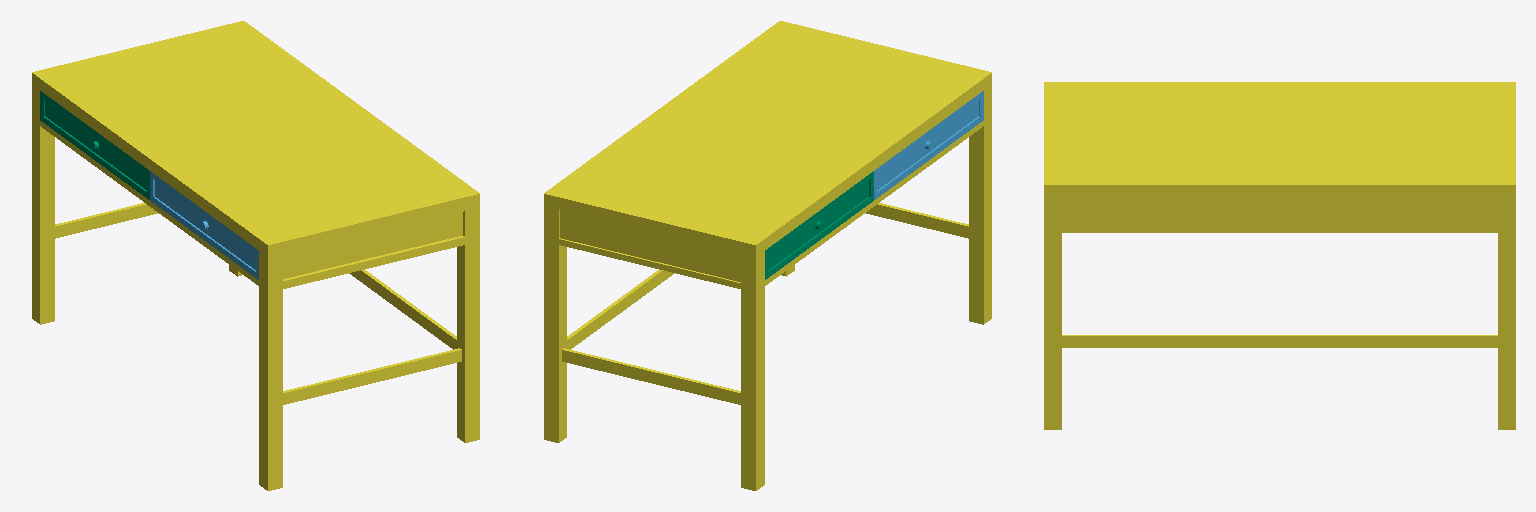
robot.urdf — partnet_ebc897217df591d73542091189dc62b5:
<?xml version="1.0" ?>
<robot name="partnet_ebc897217df591d73542091189dc62b5">
	<link name="base"/>
	<link name="link_0">
		<visual name="drawer_front-26">
			<origin xyz="0 0 0"/>
			<geometry>
				<mesh filename="textured_objs/new-21.obj"/>
			</geometry>
		</visual>
		<visual name="drawer_side-27">
			<origin xyz="0 0 0"/>
			<geometry>
				<mesh filename="textured_objs/new-22.obj"/>
			</geometry>
		</visual>
		<visual name="drawer_side-28">
			<origin xyz="0 0 0"/>
			<geometry>
				<mesh filename="textured_objs/new-23.obj"/>
			</geometry>
		</visual>
		<visual name="drawer_back-29">
			<origin xyz="0 0 0"/>
			<geometry>
				<mesh filename="textured_objs/new-24.obj"/>
			</geometry>
		</visual>
		<visual name="drawer_bottom-30">
			<origin xyz="0 0 0"/>
			<geometry>
				<mesh filename="textured_objs/new-25.obj"/>
			</geometry>
		</visual>
		<collision>
			<origin xyz="0 0 0"/>
			<geometry>
				<mesh filename="textured_objs/new-21.obj"/>
			</geometry>
		</collision>
		<collision>
			<origin xyz="0 0 0"/>
			<geometry>
				<mesh filename="textured_objs/new-22.obj"/>
			</geometry>
		</collision>
		<collision>
			<origin xyz="0 0 0"/>
			<geometry>
				<mesh filename="textured_objs/new-23.obj"/>
			</geometry>
		</collision>
		<collision>
			<origin xyz="0 0 0"/>
			<geometry>
				<mesh filename="textured_objs/new-24.obj"/>
			</geometry>
		</collision>
		<collision>
			<origin xyz="0 0 0"/>
			<geometry>
				<mesh filename="textured_objs/new-25.obj"/>
			</geometry>
		</collision>
	</link>
	<joint name="joint_0" type="prismatic">
		<origin xyz="0 0 0"/>
		<axis xyz="0 0 1"/>
		<child link="link_0"/>
		<parent link="link_2"/>
		<limit lower="0" upper="0.5760000000000001"/>
	</joint>
	<link name="link_1">
		<visual name="drawer_front-20">
			<origin xyz="0 0 0"/>
			<geometry>
				<mesh filename="textured_objs/new-16.obj"/>
			</geometry>
		</visual>
		<visual name="drawer_side-21">
			<origin xyz="0 0 0"/>
			<geometry>
				<mesh filename="textured_objs/new-18.obj"/>
			</geometry>
		</visual>
		<visual name="drawer_side-22">
			<origin xyz="0 0 0"/>
			<geometry>
				<mesh filename="textured_objs/new-17.obj"/>
			</geometry>
		</visual>
		<visual name="drawer_back-23">
			<origin xyz="0 0 0"/>
			<geometry>
				<mesh filename="textured_objs/new-19.obj"/>
			</geometry>
		</visual>
		<visual name="drawer_bottom-24">
			<origin xyz="0 0 0"/>
			<geometry>
				<mesh filename="textured_objs/new-20.obj"/>
			</geometry>
		</visual>
		<collision>
			<origin xyz="0 0 0"/>
			<geometry>
				<mesh filename="textured_objs/new-16.obj"/>
			</geometry>
		</collision>
		<collision>
			<origin xyz="0 0 0"/>
			<geometry>
				<mesh filename="textured_objs/new-18.obj"/>
			</geometry>
		</collision>
		<collision>
			<origin xyz="0 0 0"/>
			<geometry>
				<mesh filename="textured_objs/new-17.obj"/>
			</geometry>
		</collision>
		<collision>
			<origin xyz="0 0 0"/>
			<geometry>
				<mesh filename="textured_objs/new-19.obj"/>
			</geometry>
		</collision>
		<collision>
			<origin xyz="0 0 0"/>
			<geometry>
				<mesh filename="textured_objs/new-20.obj"/>
			</geometry>
		</collision>
	</link>
	<joint name="joint_1" type="prismatic">
		<origin xyz="0 0 0"/>
		<axis xyz="0 0 1"/>
		<child link="link_1"/>
		<parent link="link_2"/>
		<limit lower="0" upper="0.5760000000000001"/>
	</joint>
	<link name="link_2">
		<visual name="board-19">
			<origin xyz="0 0 0"/>
			<geometry>
				<mesh filename="textured_objs/new-10.obj"/>
			</geometry>
		</visual>
		<visual name="back_panel-6">
			<origin xyz="0 0 0"/>
			<geometry>
				<mesh filename="textured_objs/new-11.obj"/>
			</geometry>
		</visual>
		<visual name="back_panel-6">
			<origin xyz="0 0 0"/>
			<geometry>
				<mesh filename="textured_objs/new-13.obj"/>
			</geometry>
		</visual>
		<visual name="vertical_side_panel-7">
			<origin xyz="0 0 0"/>
			<geometry>
				<mesh filename="textured_objs/new-8.obj"/>
			</geometry>
		</visual>
		<visual name="vertical_side_panel-8">
			<origin xyz="0 0 0"/>
			<geometry>
				<mesh filename="textured_objs/new-7.obj"/>
			</geometry>
		</visual>
		<visual name="vertical_side_panel-8">
			<origin xyz="0 0 0"/>
			<geometry>
				<mesh filename="textured_objs/new-12.obj"/>
			</geometry>
		</visual>
		<visual name="vertical_side_panel-8">
			<origin xyz="0 0 0"/>
			<geometry>
				<mesh filename="textured_objs/new-14.obj"/>
			</geometry>
		</visual>
		<visual name="vertical_side_panel-8">
			<origin xyz="0 0 0"/>
			<geometry>
				<mesh filename="textured_objs/new-15.obj"/>
			</geometry>
		</visual>
		<visual name="bottom_panel-9">
			<origin xyz="0 0 0"/>
			<geometry>
				<mesh filename="textured_objs/new-9.obj"/>
			</geometry>
		</visual>
		<visual name="leg-10">
			<origin xyz="0 0 0"/>
			<geometry>
				<mesh filename="textured_objs/new-3.obj"/>
			</geometry>
		</visual>
		<visual name="leg-11">
			<origin xyz="0 0 0"/>
			<geometry>
				<mesh filename="textured_objs/new-4.obj"/>
			</geometry>
		</visual>
		<visual name="leg-12">
			<origin xyz="0 0 0"/>
			<geometry>
				<mesh filename="textured_objs/new-5.obj"/>
			</geometry>
		</visual>
		<visual name="leg-13">
			<origin xyz="0 0 0"/>
			<geometry>
				<mesh filename="textured_objs/new-6.obj"/>
			</geometry>
		</visual>
		<visual name="bar_stretcher-14">
			<origin xyz="0 0 0"/>
			<geometry>
				<mesh filename="textured_objs/new-0.obj"/>
			</geometry>
		</visual>
		<visual name="bar_stretcher-15">
			<origin xyz="0 0 0"/>
			<geometry>
				<mesh filename="textured_objs/new-2.obj"/>
			</geometry>
		</visual>
		<visual name="bar_stretcher-16">
			<origin xyz="0 0 0"/>
			<geometry>
				<mesh filename="textured_objs/new-1.obj"/>
			</geometry>
		</visual>
		<collision>
			<origin xyz="0 0 0"/>
			<geometry>
				<mesh filename="textured_objs/new-10.obj"/>
			</geometry>
		</collision>
		<collision>
			<origin xyz="0 0 0"/>
			<geometry>
				<mesh filename="textured_objs/new-11.obj"/>
			</geometry>
		</collision>
		<collision>
			<origin xyz="0 0 0"/>
			<geometry>
				<mesh filename="textured_objs/new-13.obj"/>
			</geometry>
		</collision>
		<collision>
			<origin xyz="0 0 0"/>
			<geometry>
				<mesh filename="textured_objs/new-8.obj"/>
			</geometry>
		</collision>
		<collision>
			<origin xyz="0 0 0"/>
			<geometry>
				<mesh filename="textured_objs/new-7.obj"/>
			</geometry>
		</collision>
		<collision>
			<origin xyz="0 0 0"/>
			<geometry>
				<mesh filename="textured_objs/new-12.obj"/>
			</geometry>
		</collision>
		<collision>
			<origin xyz="0 0 0"/>
			<geometry>
				<mesh filename="textured_objs/new-14.obj"/>
			</geometry>
		</collision>
		<collision>
			<origin xyz="0 0 0"/>
			<geometry>
				<mesh filename="textured_objs/new-15.obj"/>
			</geometry>
		</collision>
		<collision>
			<origin xyz="0 0 0"/>
			<geometry>
				<mesh filename="textured_objs/new-9.obj"/>
			</geometry>
		</collision>
		<collision>
			<origin xyz="0 0 0"/>
			<geometry>
				<mesh filename="textured_objs/new-3.obj"/>
			</geometry>
		</collision>
		<collision>
			<origin xyz="0 0 0"/>
			<geometry>
				<mesh filename="textured_objs/new-4.obj"/>
			</geometry>
		</collision>
		<collision>
			<origin xyz="0 0 0"/>
			<geometry>
				<mesh filename="textured_objs/new-5.obj"/>
			</geometry>
		</collision>
		<collision>
			<origin xyz="0 0 0"/>
			<geometry>
				<mesh filename="textured_objs/new-6.obj"/>
			</geometry>
		</collision>
		<collision>
			<origin xyz="0 0 0"/>
			<geometry>
				<mesh filename="textured_objs/new-0.obj"/>
			</geometry>
		</collision>
		<collision>
			<origin xyz="0 0 0"/>
			<geometry>
				<mesh filename="textured_objs/new-2.obj"/>
			</geometry>
		</collision>
		<collision>
			<origin xyz="0 0 0"/>
			<geometry>
				<mesh filename="textured_objs/new-1.obj"/>
			</geometry>
		</collision>
	</link>
	<joint name="joint_2" type="fixed">
		<origin rpy="1.570796326794897 0 -1.570796326794897" xyz="0 0 0"/>
		<child link="link_2"/>
		<parent link="base"/>
	</joint>
</robot>

--- Facts derived from the render (not from the file) ---
3 views of the same robot in one strip: view 1: azimuth 30°, elevation 25°; view 2: azimuth 150°, elevation 25°; view 3: azimuth 270°, elevation 25° (orthographic).
Robot: partnet_ebc897217df591d73542091189dc62b5 — 4 links, 3 joints (2 prismatic, 1 fixed); root link base; default pose: all joints at 0.
Visible links, largest first — view 1: link_2, link_1, link_0; view 2: link_2, link_0, link_1; view 3: link_2.
Link boxes in pixels (bbox=[...]): link_2: bbox=[32, 21, 479, 490]; link_1: bbox=[40, 91, 149, 199]; link_0: bbox=[150, 171, 258, 279]; link_2: bbox=[544, 21, 991, 490]; link_0: bbox=[874, 91, 983, 199]; link_1: bbox=[765, 171, 873, 279]; link_2: bbox=[1044, 82, 1515, 429].
Size in the robot's own frame: 0.7491 by 1.43 by 0.8221 metres.
Meshes: 26 distinct files referenced, 25 mesh visuals loaded (25 OBJ); not drawn: 1 (reference not matched to a file when rendering).